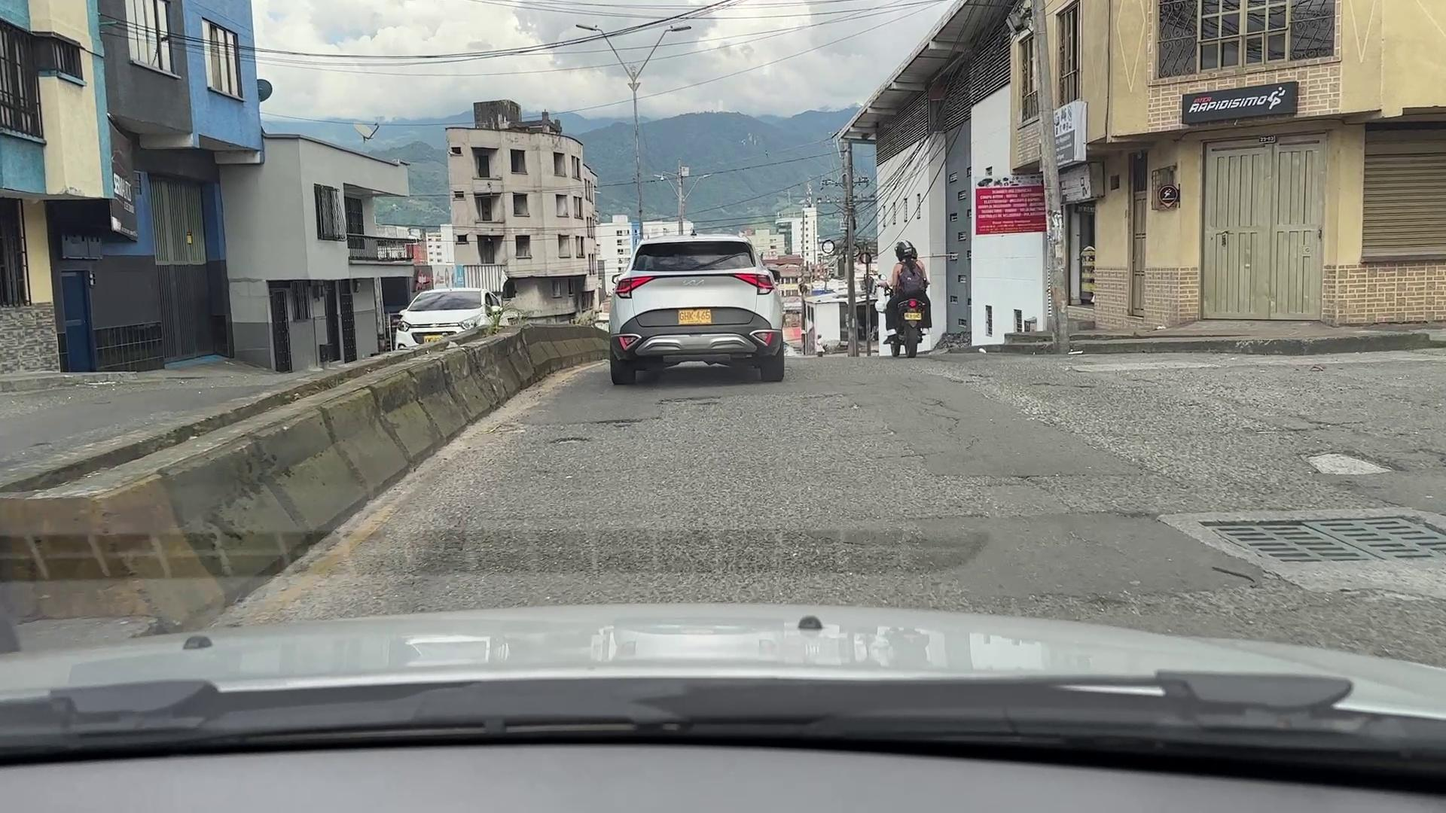bache: (1298, 450, 1407, 475), (549, 437, 590, 443), (595, 419, 643, 423)
rejilla: (1202, 516, 1445, 563)
